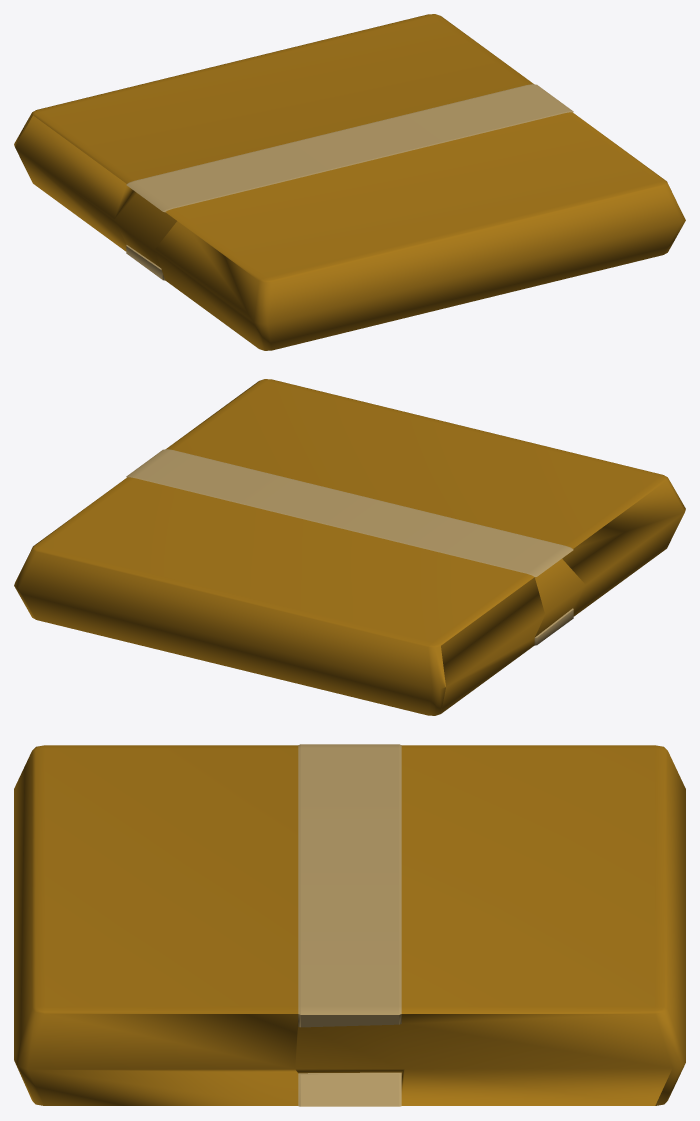
Rendered from Box_Model_crushed(3x1x3).fbx.
The picture shows the model from 3 angles, top to bottom: view 1: azimuth 30°, elevation 25°; view 2: azimuth 150°, elevation 25°; view 3: azimuth 270°, elevation 25°; orthographic projection. The views are drawn at different scales.
Parts seen in each view (by area): view 1: 3x1x3_crushed; view 2: 3x1x3_crushed; view 3: 3x1x3_crushed.
Boxes of the visible parts, left/top/right/bottom form: 3x1x3_crushed: left=14, top=14, right=685, bottom=350; 3x1x3_crushed: left=14, top=379, right=685, bottom=715; 3x1x3_crushed: left=14, top=744, right=685, bottom=1106.
Size of the model in its own units: 31.71 by 5.02 by 31.71.
